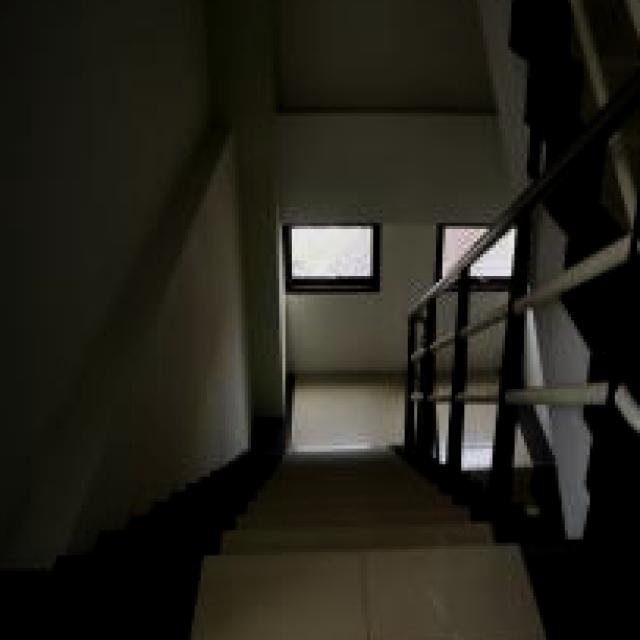downstair: (208, 462, 450, 640)
